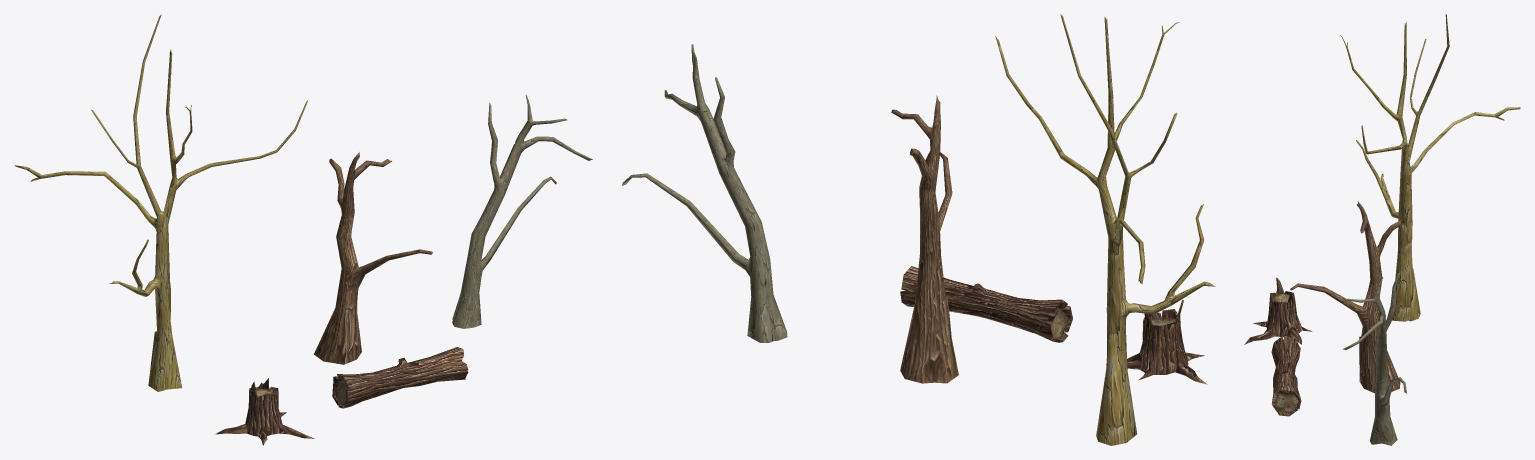
The model's file is tree2.glb.
3 views of the same model, side by side, from view 1: azimuth 30°, elevation 25°; view 2: azimuth 150°, elevation 25°; view 3: azimuth 270°, elevation 25° (orthographic). The views are drawn at different scales.
Parts seen in each view (by area): view 1: tree_01_07 - Default_0; view 2: tree_01_07 - Default_0; view 3: tree_01_07 - Default_0.
Part boxes in pixels (left/top/right/bottom): tree_01_07 - Default_0: left=14, top=14, right=592, bottom=445; tree_01_07 - Default_0: left=622, top=14, right=1215, bottom=445; tree_01_07 - Default_0: left=1244, top=14, right=1520, bottom=445.
Bounding box in the file's own units: 87.66 × 61.49 × 49.24.
Materials: 1 (1 with a texture image).
